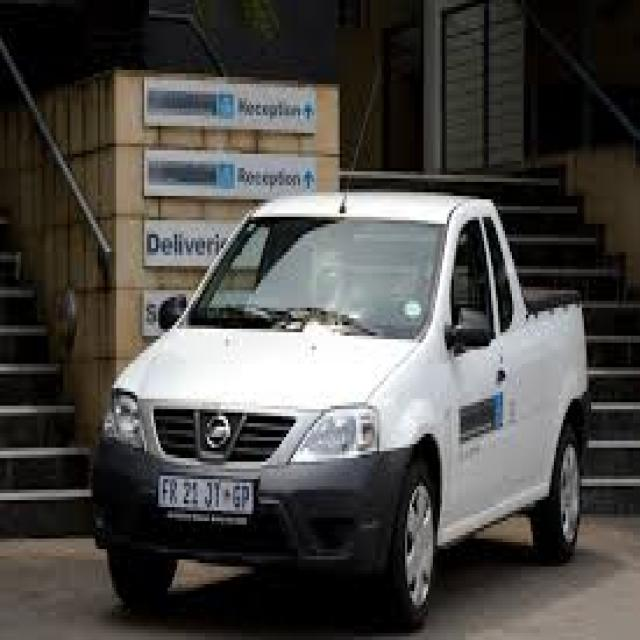Pickup Trucks: (93, 196, 589, 626)
